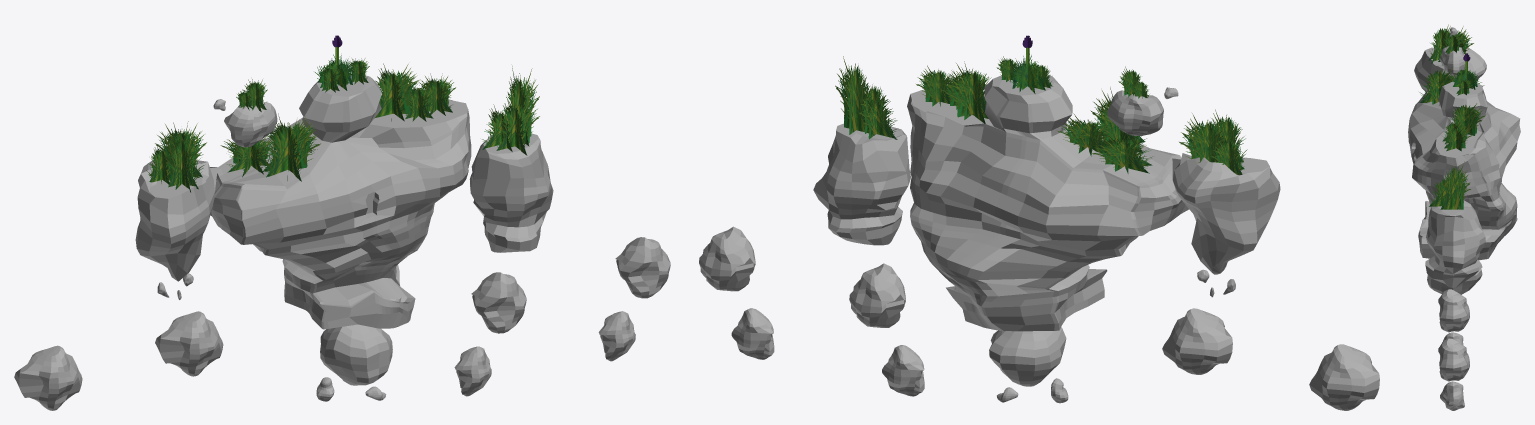
The model's file is bossModel12.fbx.
The picture shows the model from 3 angles, left to right: view 1: azimuth 30°, elevation 25°; view 2: azimuth 150°, elevation 25°; view 3: azimuth 270°, elevation 25°; orthographic projection. The views are drawn at different scales.
Parts seen in each view (by area): view 1: polySurface35, polySurface29, polySurface21, polySurface20, pPlane53, pPlane37, pPlane30, pPlane28, pPlane61, pPlane38, pPlane33; view 2: polySurface35, polySurface29, polySurface21, polySurface20, pPlane28, pPlane29; view 3: polySurface35, polySurface21, pPlane29, polySurface20, pPlane60, pPlane36, pPlane31, pPlane53, pPlane38, pPlane15, pPlane26, pPlane52 (+7 smaller).
Boxes of the visible parts, bbox=[...] form: polySurface35: bbox=[135, 73, 553, 401]; polySurface29: bbox=[14, 345, 82, 410]; polySurface21: bbox=[615, 237, 670, 298]; polySurface20: bbox=[598, 311, 635, 361]; pPlane53: bbox=[260, 121, 320, 171]; pPlane37: bbox=[494, 98, 539, 150]; pPlane30: bbox=[263, 116, 316, 177]; pPlane28: bbox=[503, 68, 539, 136]; pPlane61: bbox=[375, 68, 422, 113]; pPlane38: bbox=[162, 133, 200, 189]; pPlane33: bbox=[374, 64, 418, 118]; polySurface35: bbox=[813, 74, 1280, 403]; polySurface29: bbox=[1309, 344, 1379, 410]; polySurface21: bbox=[699, 226, 755, 291]; polySurface20: bbox=[731, 308, 774, 359]; pPlane28: bbox=[835, 56, 872, 133]; pPlane29: bbox=[844, 64, 864, 134]; polySurface35: bbox=[1408, 27, 1520, 345]; polySurface21: bbox=[1438, 338, 1469, 381]; pPlane29: bbox=[1439, 161, 1470, 209]; polySurface20: bbox=[1440, 381, 1464, 410]; pPlane60: bbox=[1451, 104, 1481, 135]; pPlane36: bbox=[1429, 178, 1448, 206]; pPlane31: bbox=[1419, 67, 1456, 102]; pPlane53: bbox=[1427, 70, 1442, 104]; pPlane38: bbox=[1431, 24, 1450, 63]; pPlane15: bbox=[1451, 53, 1478, 86]; pPlane26: bbox=[1444, 126, 1471, 148]; pPlane52: bbox=[1423, 70, 1453, 98].
Bounding box in the file's own units: 9.34 × 5.38 × 2.01.
